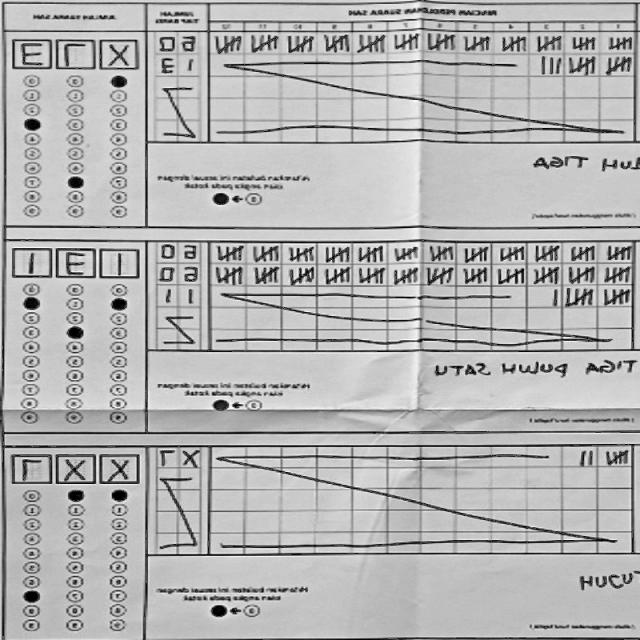Suara: (8, 448, 142, 488), (9, 34, 142, 74), (10, 242, 143, 282)
